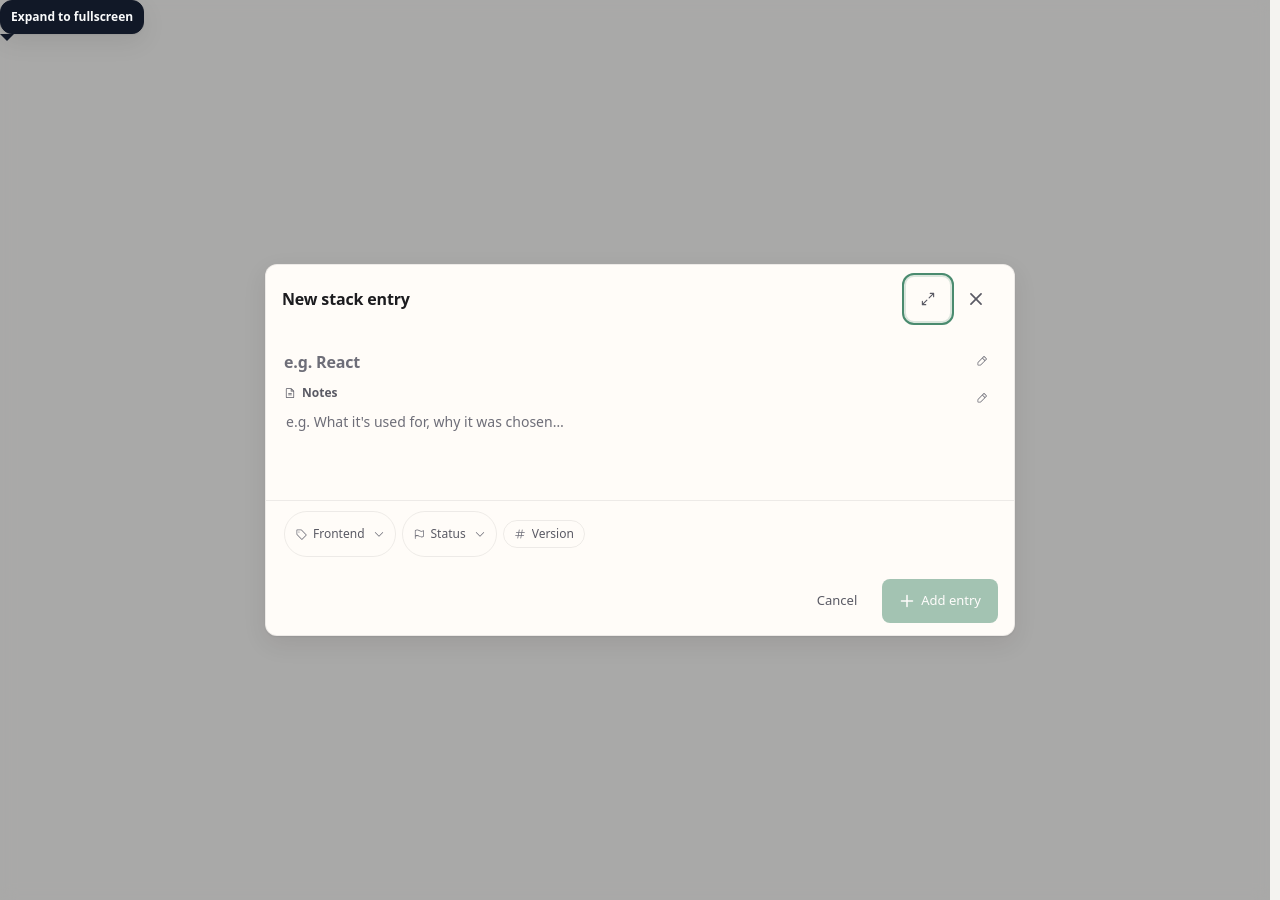
Test: NewTechModal composer › commits version popup on blur with filter and cancels on Escape
Click the button "Version".
click(544, 534)  # box 503,520 -> 585,548
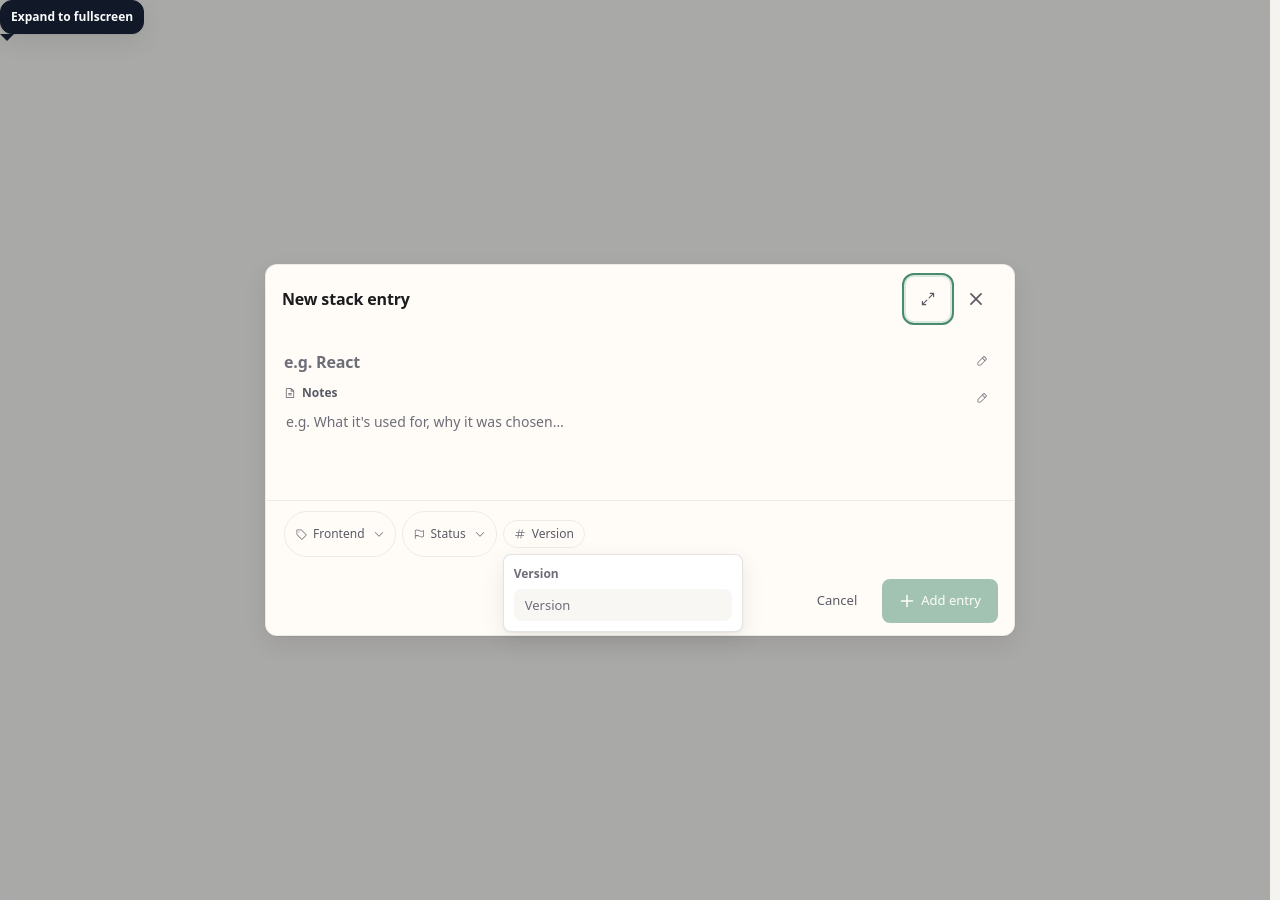
Type "19x.2a" into the field labelled "Version".
click(623, 605); type("19x.2a")  # box 514,589 -> 732,621
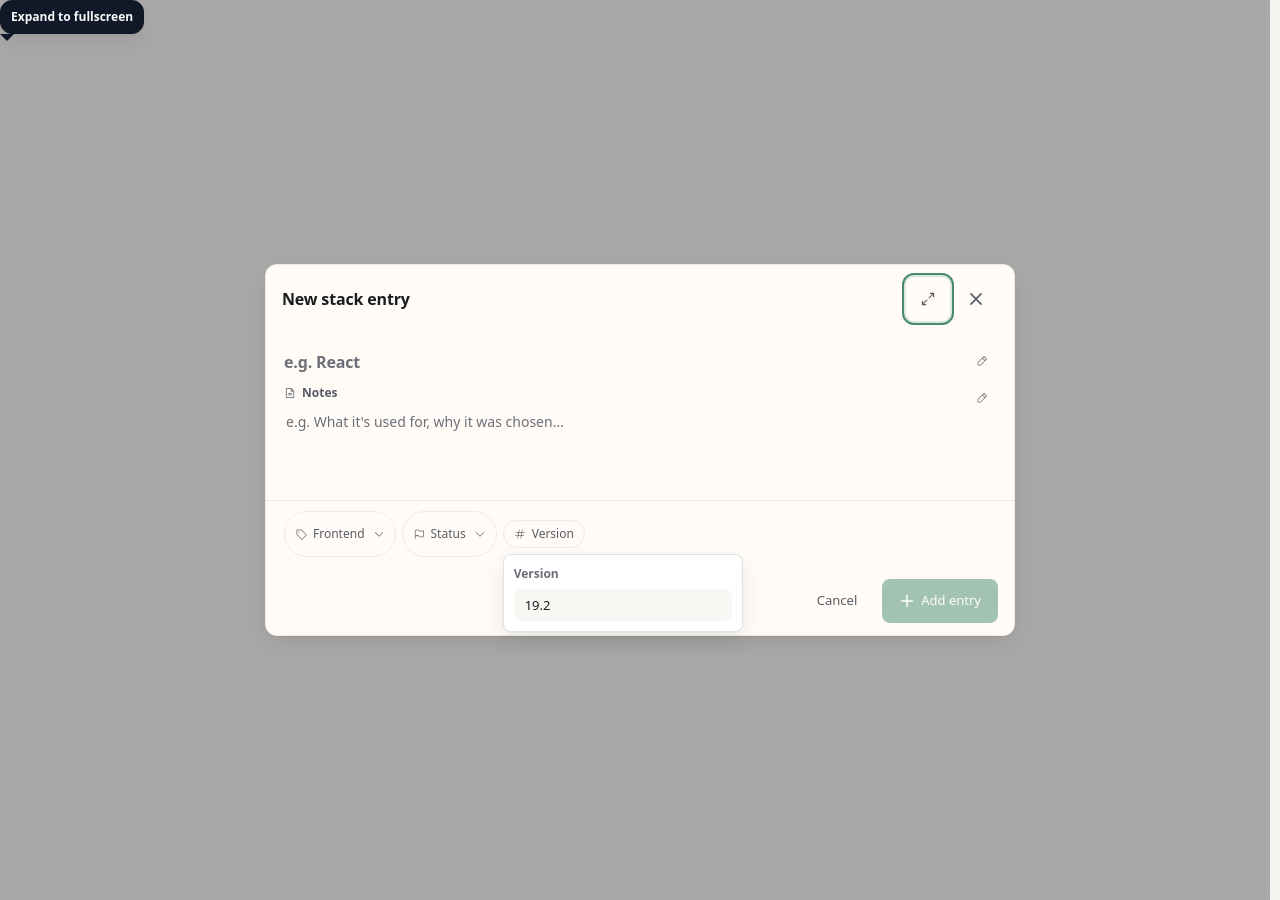
Leave the field named "Version", box 514,589 -> 732,621
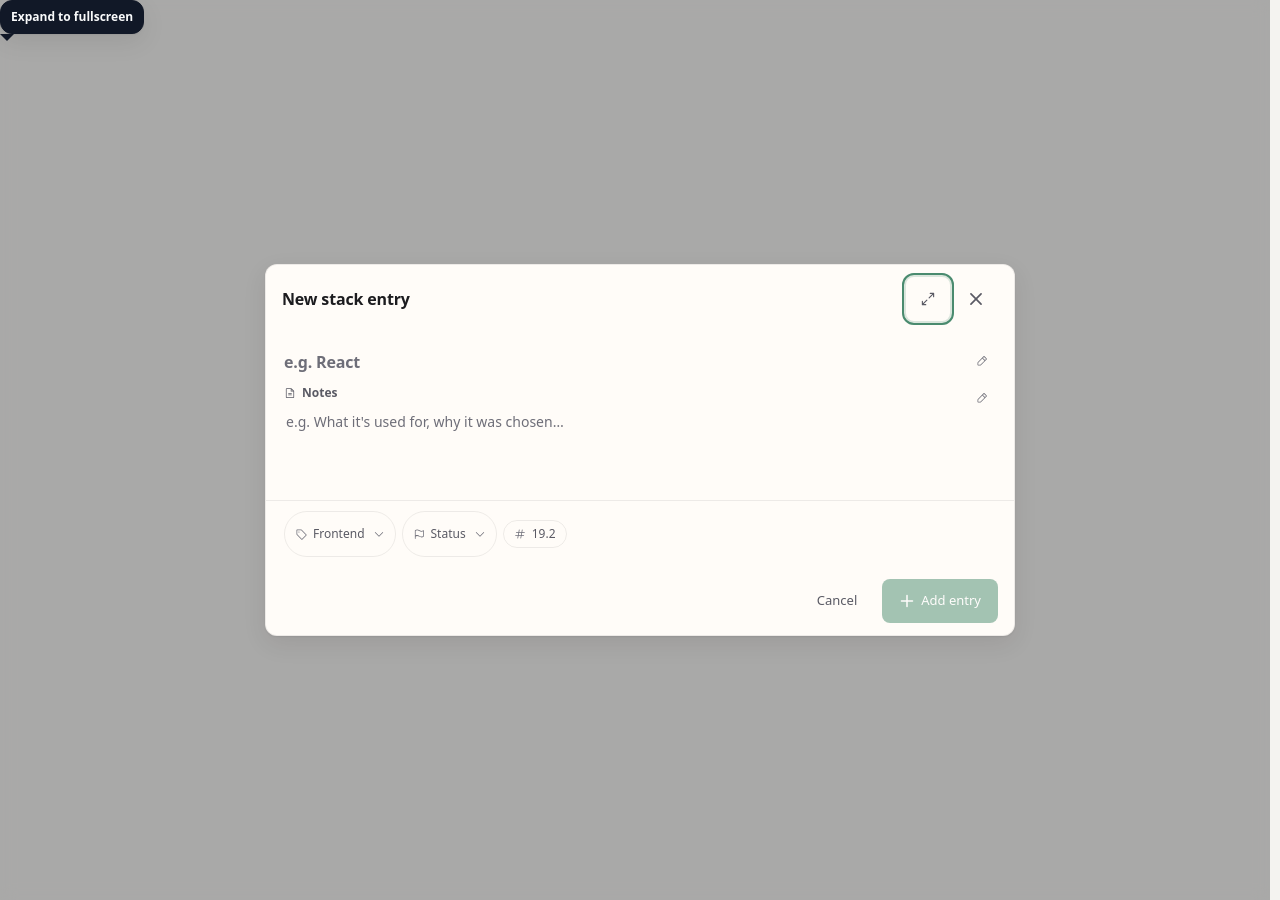
Expected: the button "19.2" is shown
Click the button "19.2".
click(535, 534)  # box 503,520 -> 566,548
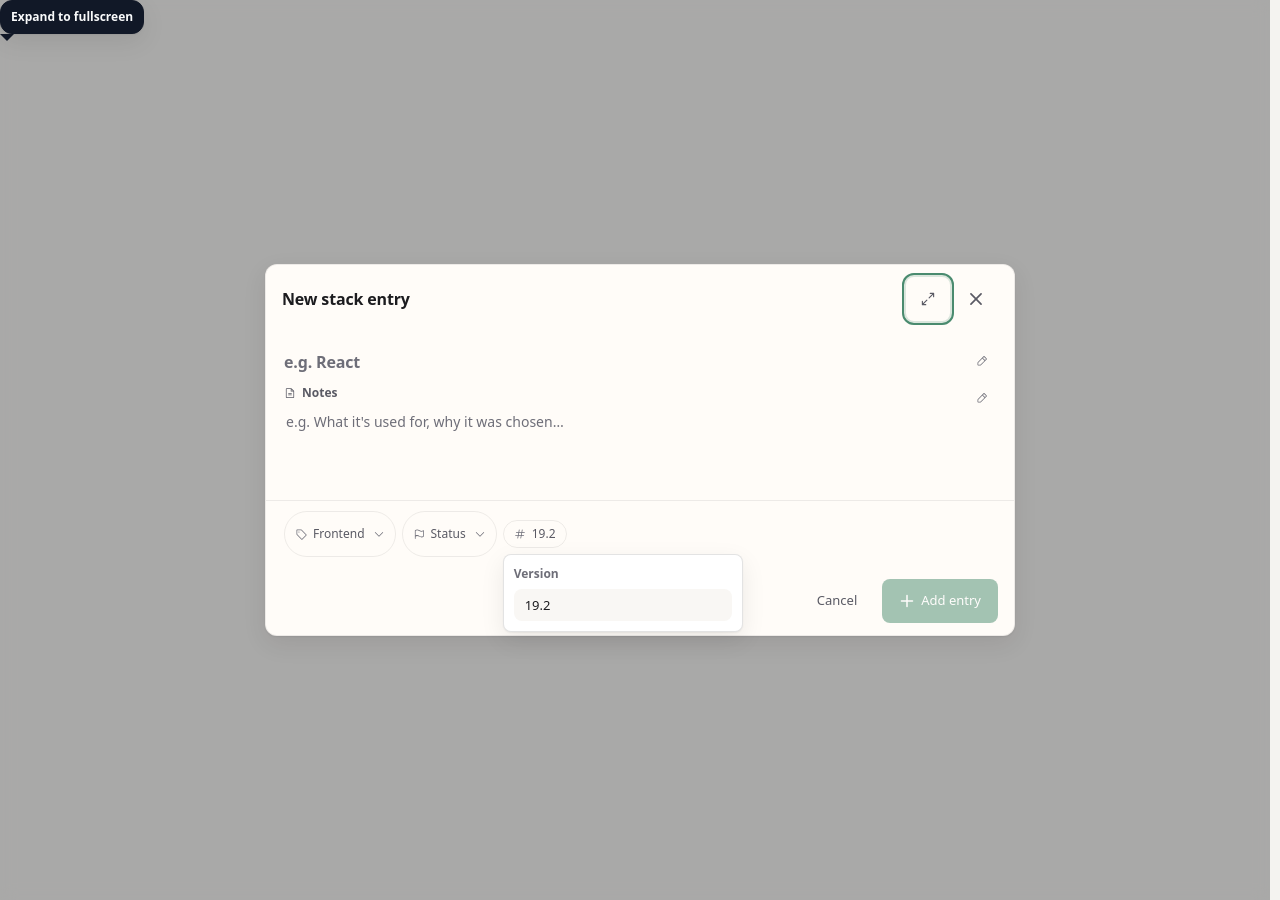
Replace the text in the field named "Version" with "9x" at (623,605), box 514,589 -> 732,621
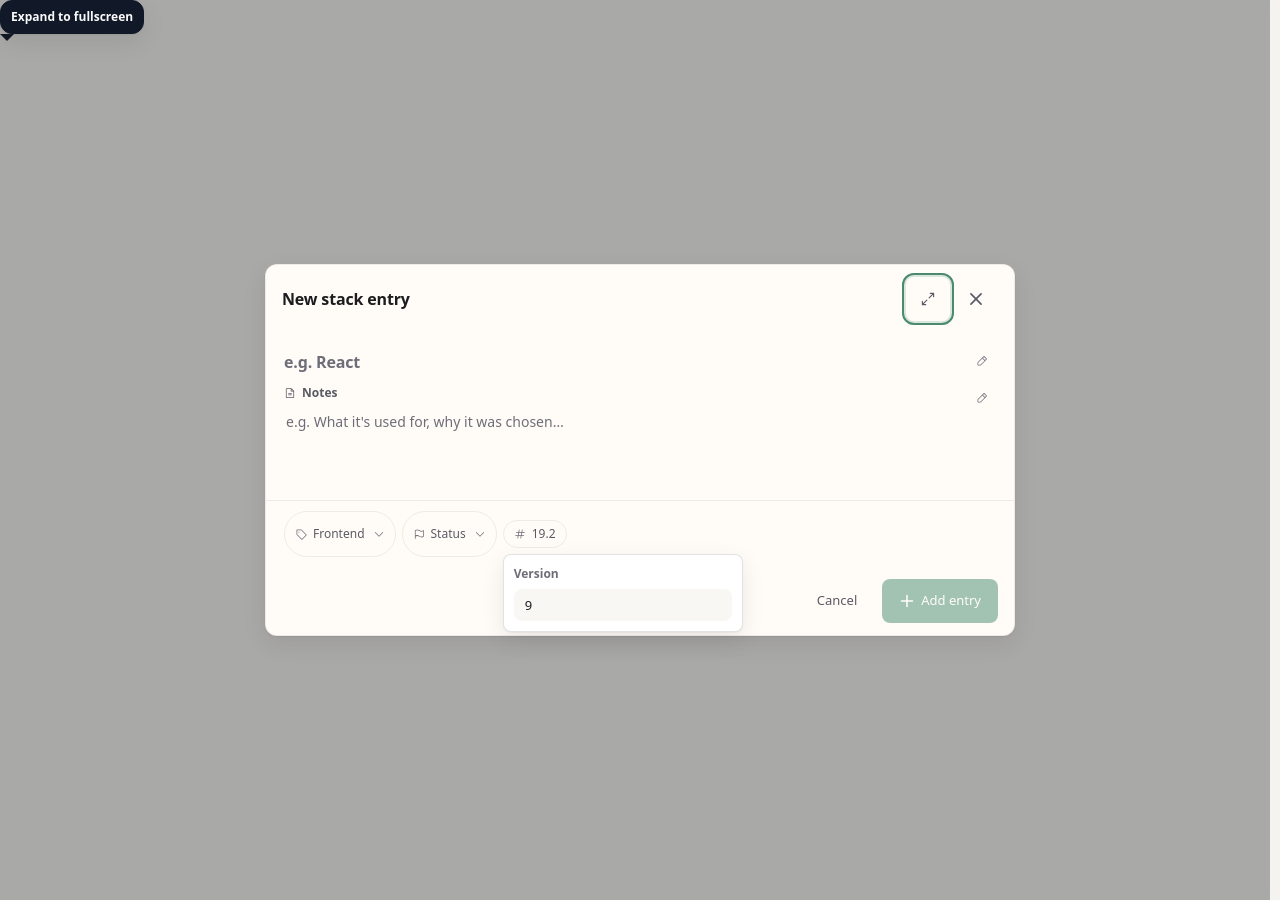
Press Escape in the field named "Version", box 514,589 -> 732,621
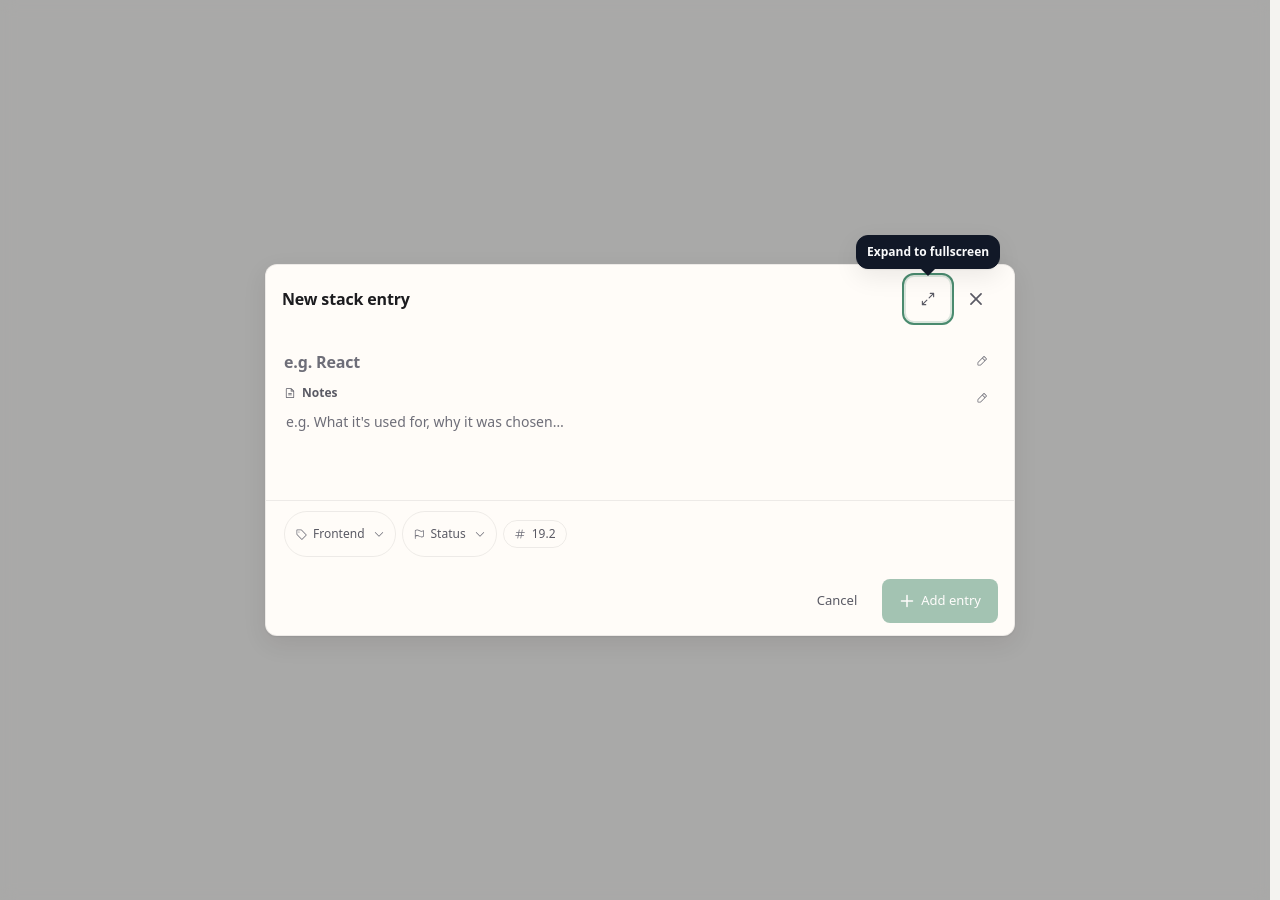
Expected: the button "19.2" is shown, 503,520 -> 566,548
Expected: the text "Version" is gone
